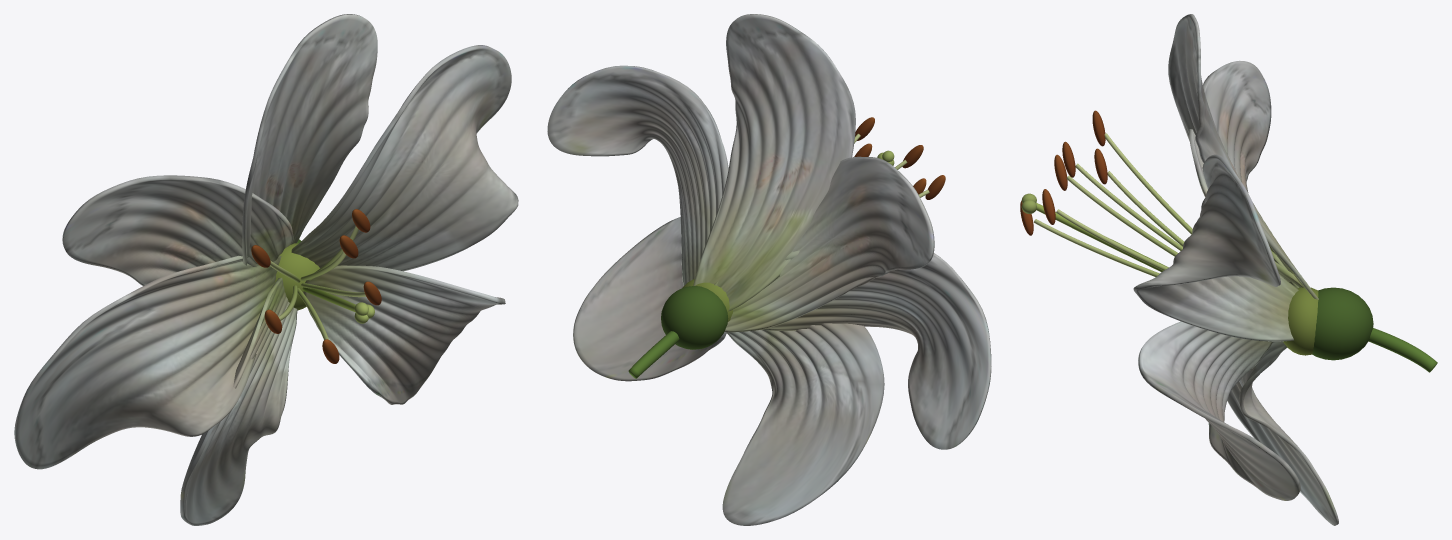
The model's file is white-lily-model.glb.
3 views of the same model, side by side, from view 1: azimuth 30°, elevation 25°; view 2: azimuth 150°, elevation 25°; view 3: azimuth 270°, elevation 25° (orthographic). The views are drawn at different scales.
Visible parts, largest first — view 1: white-lily-petal-05-lower-left, white-lily-petal-02-upper-right, white-lily-petal-01-upper-back, white-lily-petal-06-upper-left-back, white-lily-petal-03-lower-right-front, white-lily-petal-04-lower-long, pale-green-flower-throat; view 2: white-lily-petal-01-upper-back, white-lily-petal-04-lower-long, white-lily-petal-06-upper-left-back, white-lily-petal-05-lower-left, white-lily-petal-02-upper-right, white-lily-petal-03-lower-right-front, inferred-green-back-receptacle, short-inferred-green-pedicel; view 3: white-lily-petal-02-upper-right, white-lily-petal-03-lower-right-front, white-lily-petal-06-upper-left-back, white-lily-petal-01-upper-back, white-lily-petal-04-lower-long, inferred-green-back-receptacle, pale-green-flower-throat, short-inferred-green-pedicel, pale-green-filament-06, pale-green-filament-02, pale-green-filament-05, pale-green-filament-01 (+3 smaller).
Part boxes in pixels (box(x1,y1,x2,y2)): white-lily-petal-05-lower-left: box(14, 255, 281, 469); white-lily-petal-02-upper-right: box(291, 45, 518, 271); white-lily-petal-01-upper-back: box(242, 14, 377, 265); white-lily-petal-06-upper-left-back: box(62, 175, 293, 285); white-lily-petal-03-lower-right-front: box(303, 265, 505, 404); white-lily-petal-04-lower-long: box(180, 277, 297, 525); pale-green-flower-throat: box(275, 243, 319, 310); white-lily-petal-01-upper-back: box(693, 14, 855, 311); white-lily-petal-04-lower-long: box(722, 323, 884, 525); white-lily-petal-06-upper-left-back: box(714, 156, 934, 332); white-lily-petal-05-lower-left: box(761, 250, 991, 449); white-lily-petal-02-upper-right: box(547, 65, 728, 285); white-lily-petal-03-lower-right-front: box(573, 217, 726, 381); inferred-green-back-receptacle: box(661, 286, 728, 349); short-inferred-green-pedicel: box(628, 331, 679, 378); white-lily-petal-02-upper-right: box(1133, 154, 1298, 341); white-lily-petal-03-lower-right-front: box(1138, 321, 1300, 500); white-lily-petal-06-upper-left-back: box(1189, 60, 1303, 287); white-lily-petal-01-upper-back: box(1168, 14, 1318, 299); white-lily-petal-04-lower-long: box(1227, 341, 1338, 525); inferred-green-back-receptacle: box(1312, 287, 1373, 360); pale-green-flower-throat: box(1283, 287, 1318, 355); short-inferred-green-pedicel: box(1368, 328, 1437, 372); pale-green-filament-06: box(1034, 219, 1159, 276); pale-green-filament-02: box(1075, 163, 1182, 250); pale-green-filament-05: box(1066, 175, 1177, 256); pale-green-filament-01: box(1104, 133, 1192, 234).
Bounding box in the file's own units: 2.83 × 2.88 × 2.08.
